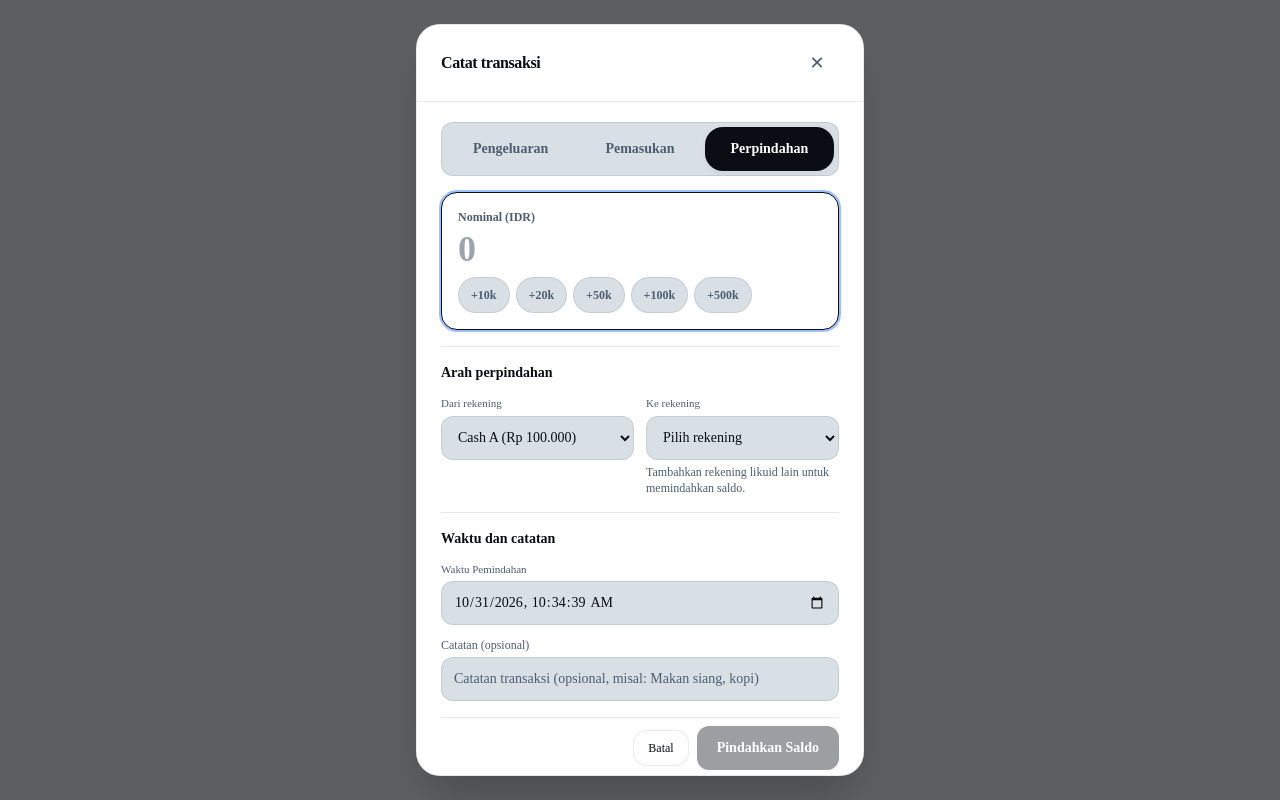
Test case: QuickCaptureModal › focuses and explains the destination when fewer than two liquid accounts exist
In the field labelled "Nominal (IDR)": (640, 249) [458,229,822,269], type "1000"
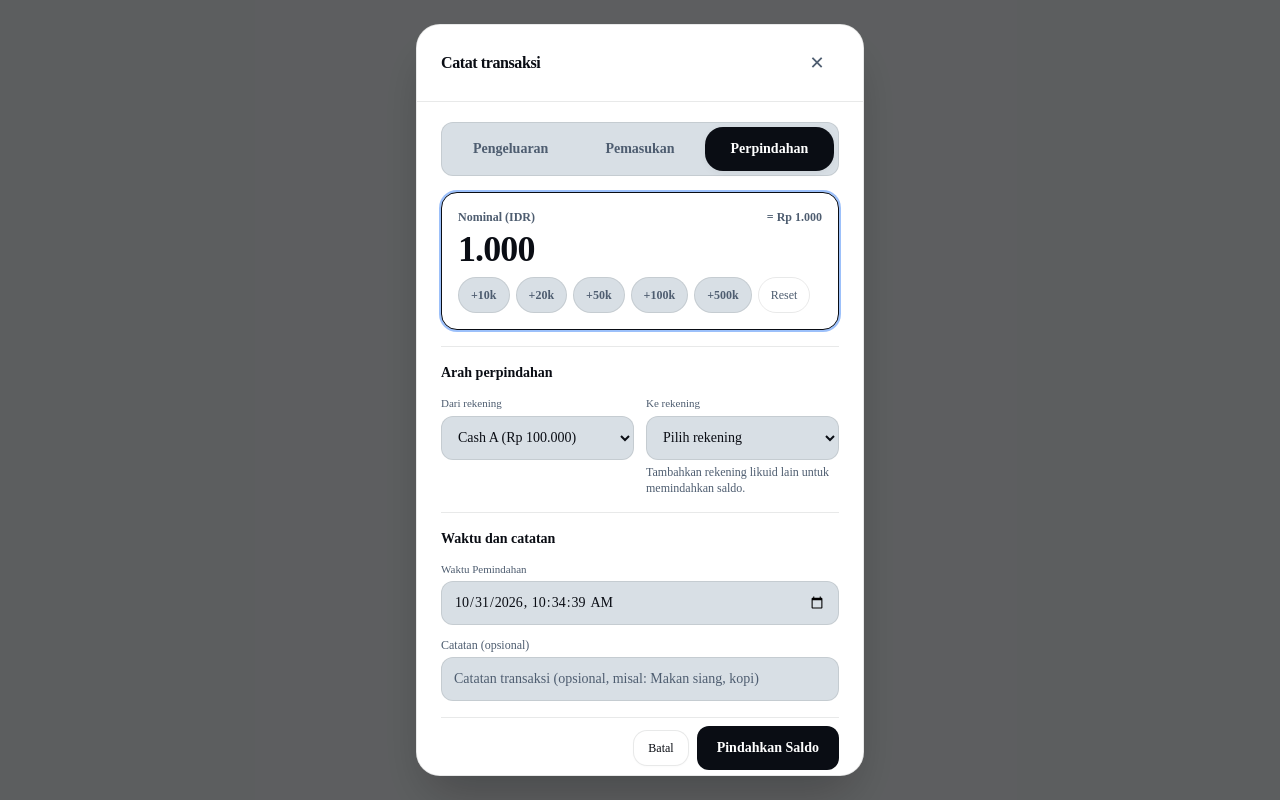
expect the dropdown labelled "Ke rekening" shows "Pilih rekening": met, box [646,416,839,460]
Click the button "Pindahkan Saldo": (768, 748) [697,726,839,770]
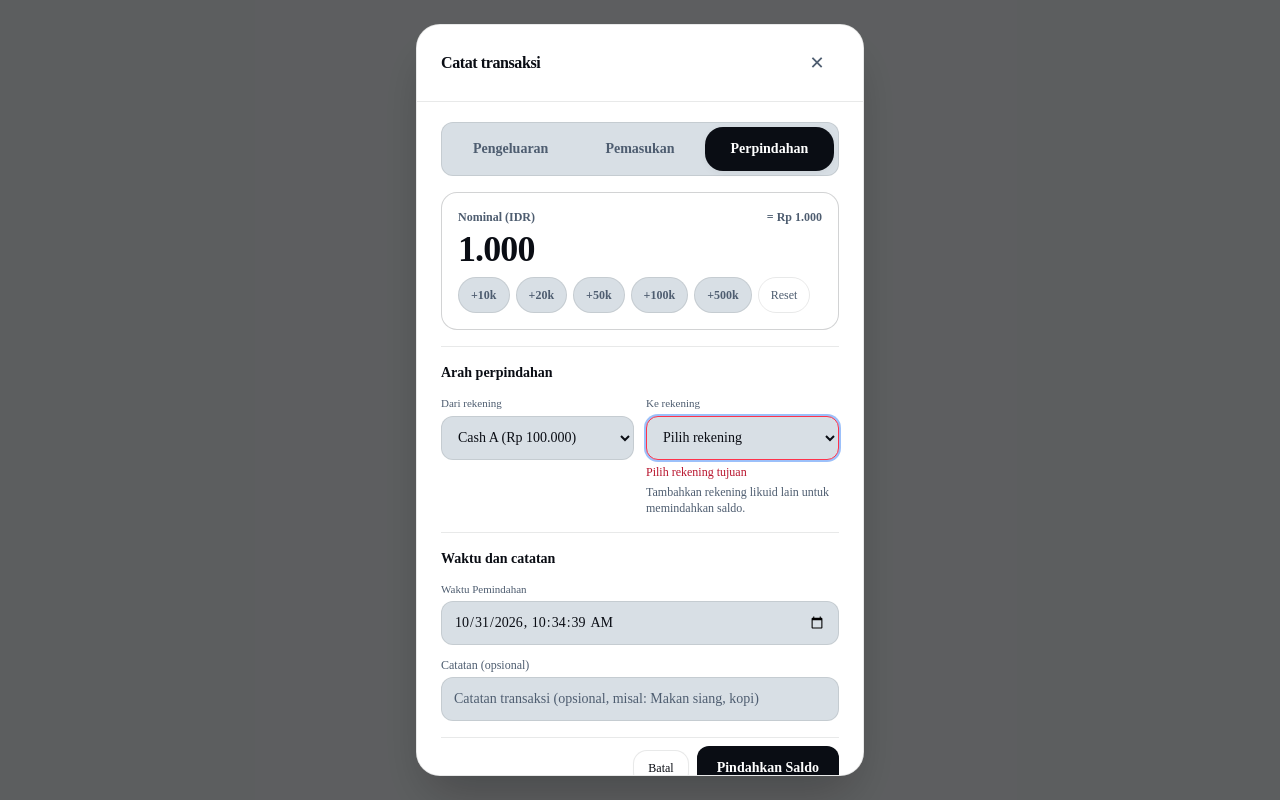
expect the message reads "Pilih rekening tujuan": met, box [646,464,747,478]
